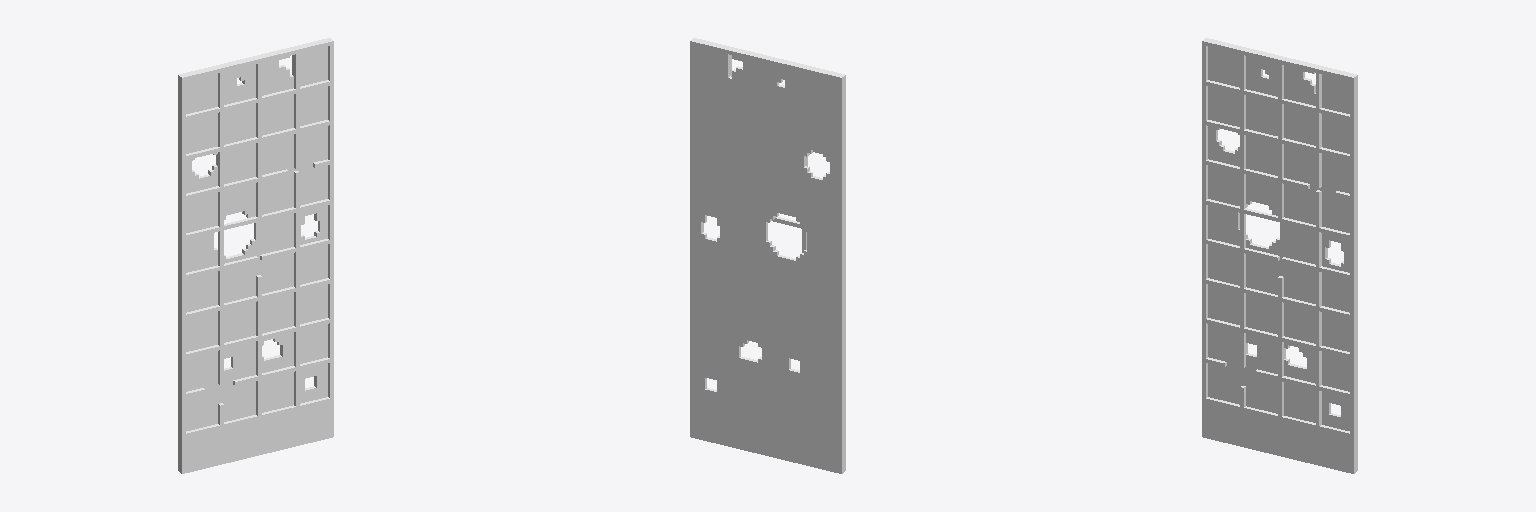
Rendered from Environment-3.obj.
3 views of the same model, side by side, from view 1: azimuth 30°, elevation 25°; view 2: azimuth 150°, elevation 25°; view 3: azimuth 330°, elevation 25° (orthographic).
Visible parts, largest first — view 1: object 1; view 2: object 1; view 3: object 1.
Part boxes in pixels (bbox=[...]): object 1: bbox=[178, 38, 333, 473]; object 1: bbox=[690, 38, 845, 473]; object 1: bbox=[1202, 38, 1357, 473].
Bounding box in the file's own units: 4 × 10 × 0.2.